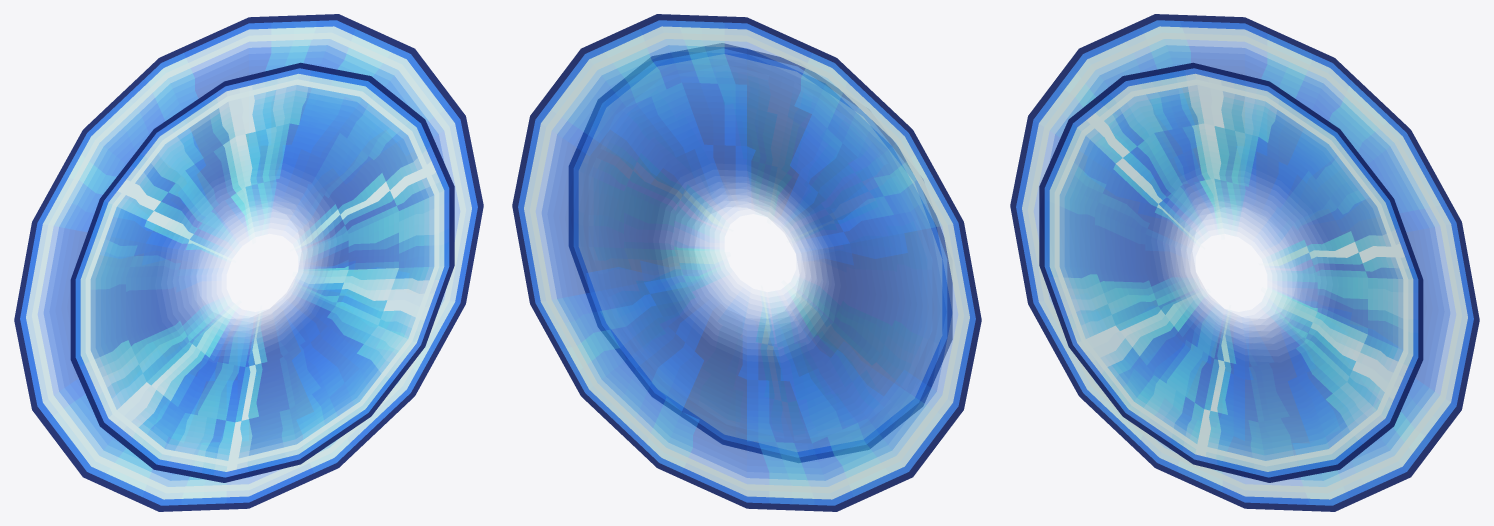
File: wave.glb
3 renders of one model, left to right at view 1: azimuth 30°, elevation 25°; view 2: azimuth 150°, elevation 25°; view 3: azimuth 330°, elevation 25°, orthographic.
Visible parts, largest first — view 1: wave; view 2: wave; view 3: wave.
Boxes of the visible parts, x1=… form: wave: x1=14, y1=14, x2=483, y2=511; wave: x1=512, y1=14, x2=981, y2=511; wave: x1=1010, y1=14, x2=1479, y2=511.
Size of the model in its own units: 120 by 120 by 6.
2 materials, 2 textured.
